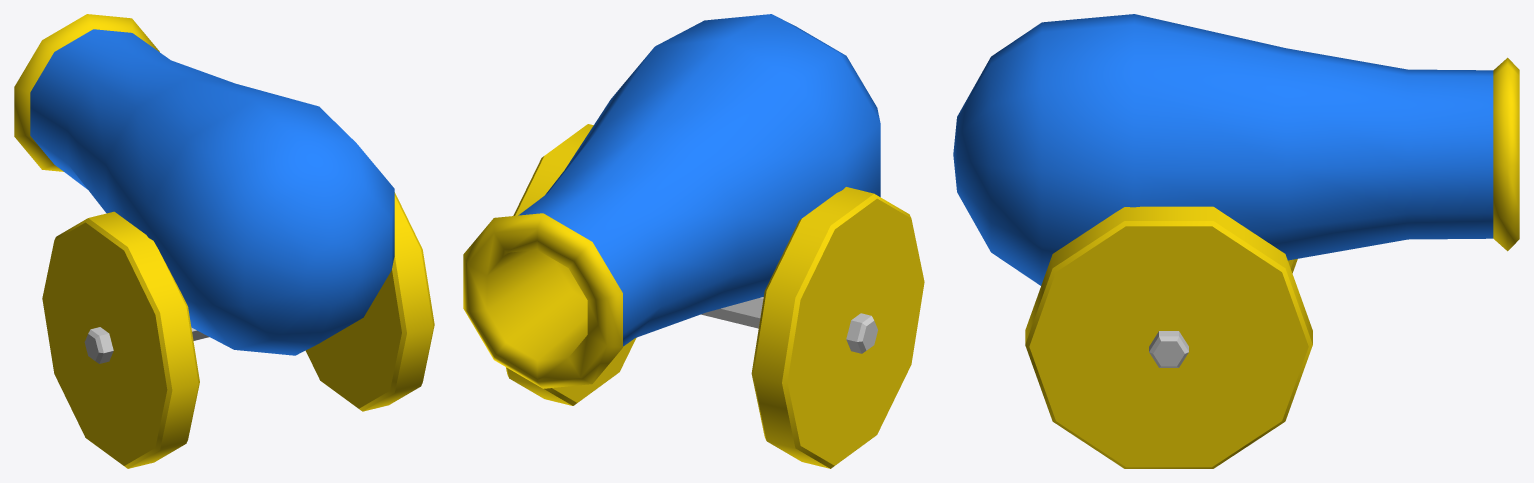
The model's file is Сannon.fbx.
The picture shows the model from 3 angles, left to right: view 1: azimuth 30°, elevation 25°; view 2: azimuth 150°, elevation 25°; view 3: azimuth 270°, elevation 25°; orthographic projection. The views are drawn at different scales.
Parts seen in each view (by area): view 1: Сannon, Basis; view 2: Сannon, Basis; view 3: Сannon, Basis.
Part boxes in pixels (<box>): Сannon: <box>14,14,394,355</box>; Basis: <box>42,192,434,468</box>; Сannon: <box>463,14,880,388</box>; Basis: <box>506,124,924,468</box>; Сannon: <box>953,14,1519,285</box>; Basis: <box>1025,206,1312,468</box>.
Bounding box in the file's own units: 183 × 198 × 273.
